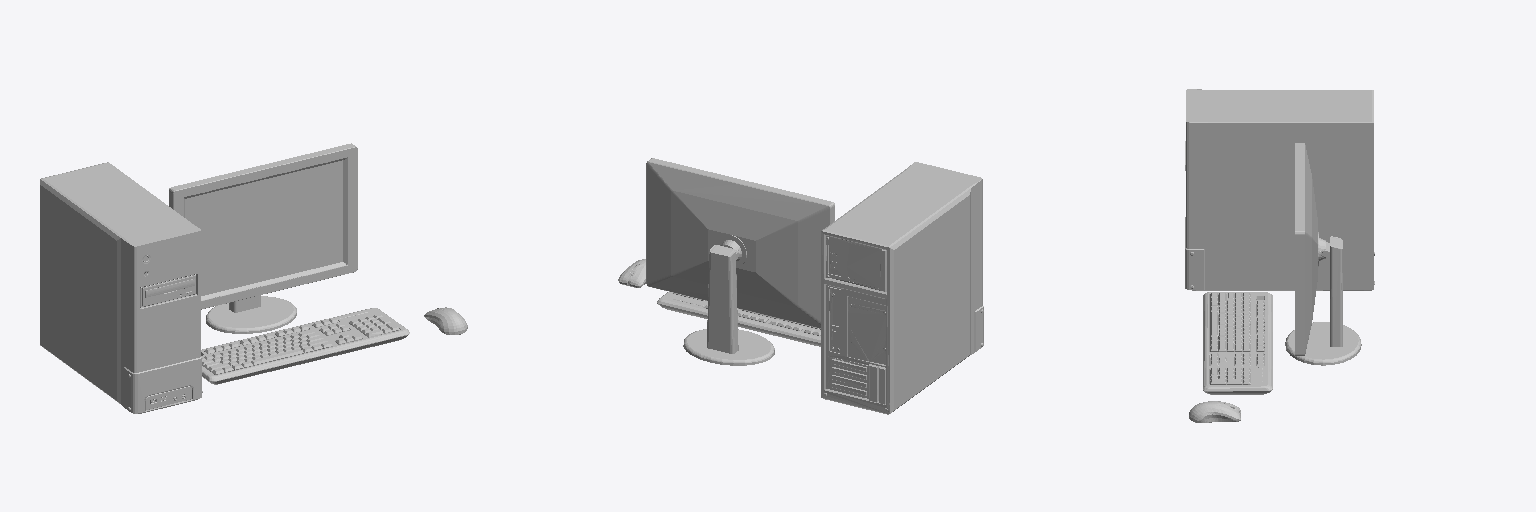
The model's file is Computer.obj.
3 views of the same model, side by side, from view 1: azimuth 30°, elevation 25°; view 2: azimuth 150°, elevation 25°; view 3: azimuth 270°, elevation 25° (orthographic).
Visible parts, largest first — view 1: Object.1; view 2: Object.1; view 3: Object.1.
Part boxes in pixels (x1,y1,x2,y2): Object.1: (40,143,467,413); Object.1: (618,158,983,414); Object.1: (1185,89,1374,422).
Size of the model in its own units: 1225 by 578 by 591.